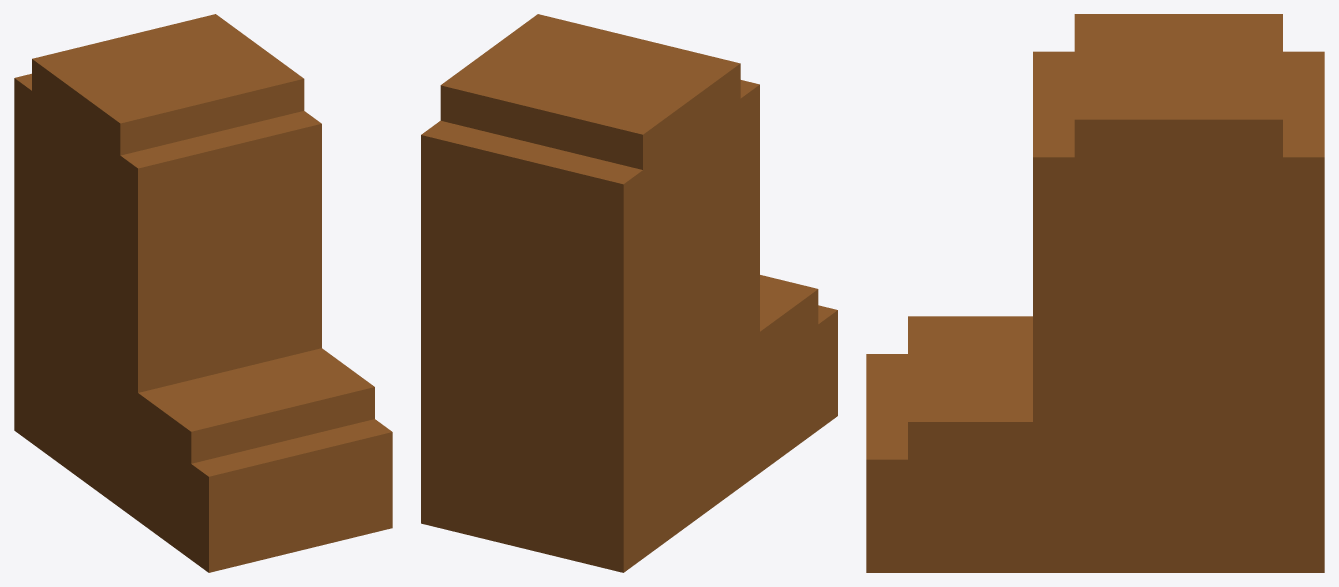
Rendered from leg_right.glb.
The picture shows the model from 3 angles, left to right: view 1: azimuth 30°, elevation 25°; view 2: azimuth 150°, elevation 25°; view 3: azimuth 270°, elevation 25°; orthographic projection. The views are drawn at different scales.
Visible parts, largest first — view 1: Node1; view 2: Node1; view 3: Node1.
Boxes of the visible parts, x1,y1,x2,y2 form: Node1: (14,14,392,572); Node1: (421,14,837,572); Node1: (866,14,1324,572).
Size of the model in its own units: 0.6 by 1.2 by 1.1.
Materials: 1 (1 with a texture image).
